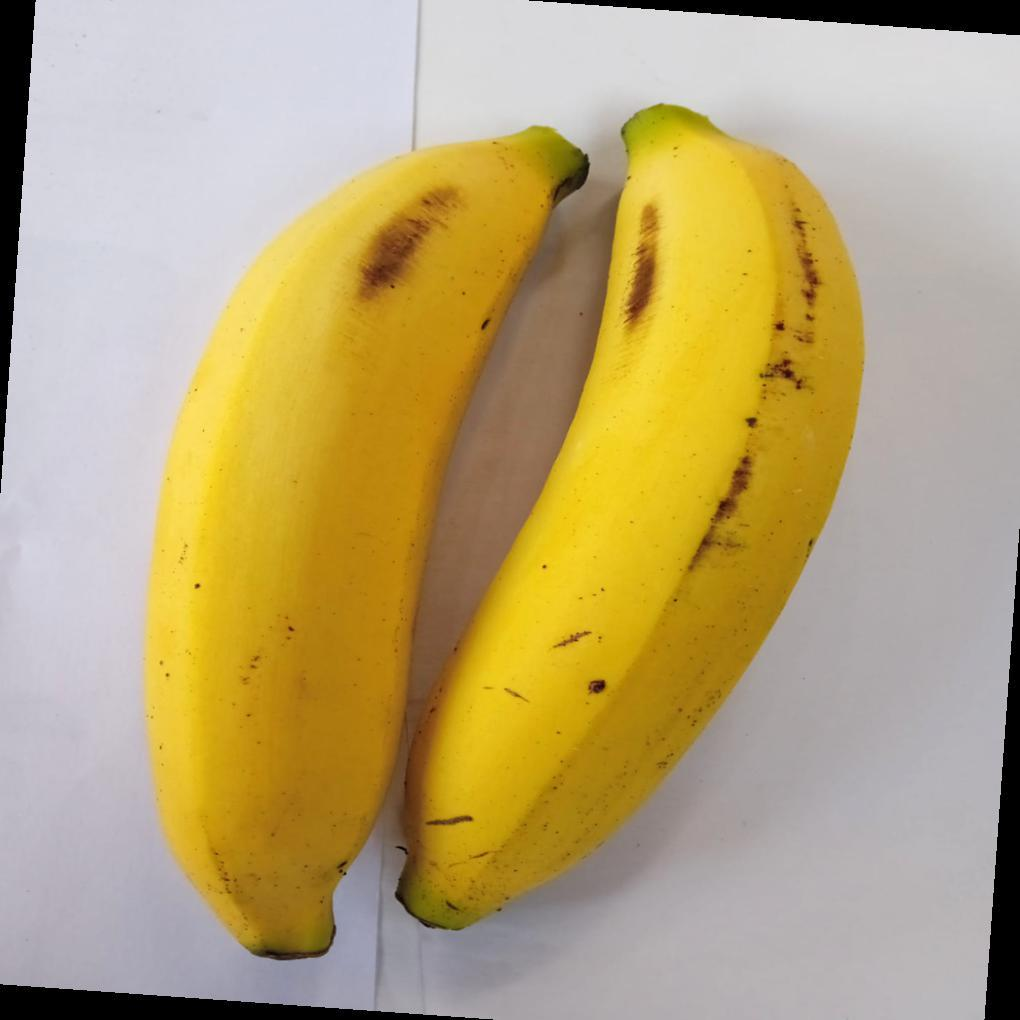Banana Ripe: (135, 49, 584, 1020), (491, 12, 897, 956)
